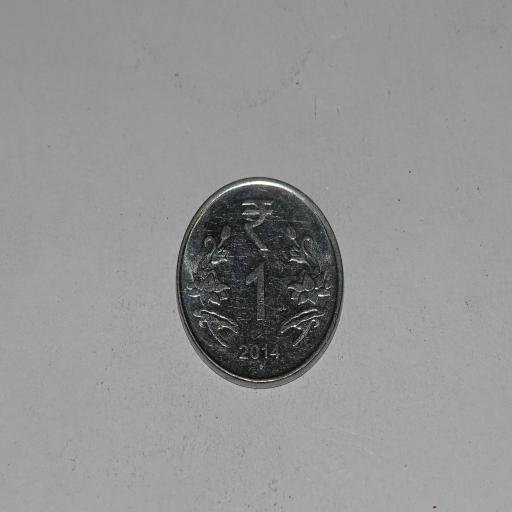rupee1: (173, 177, 345, 388)
